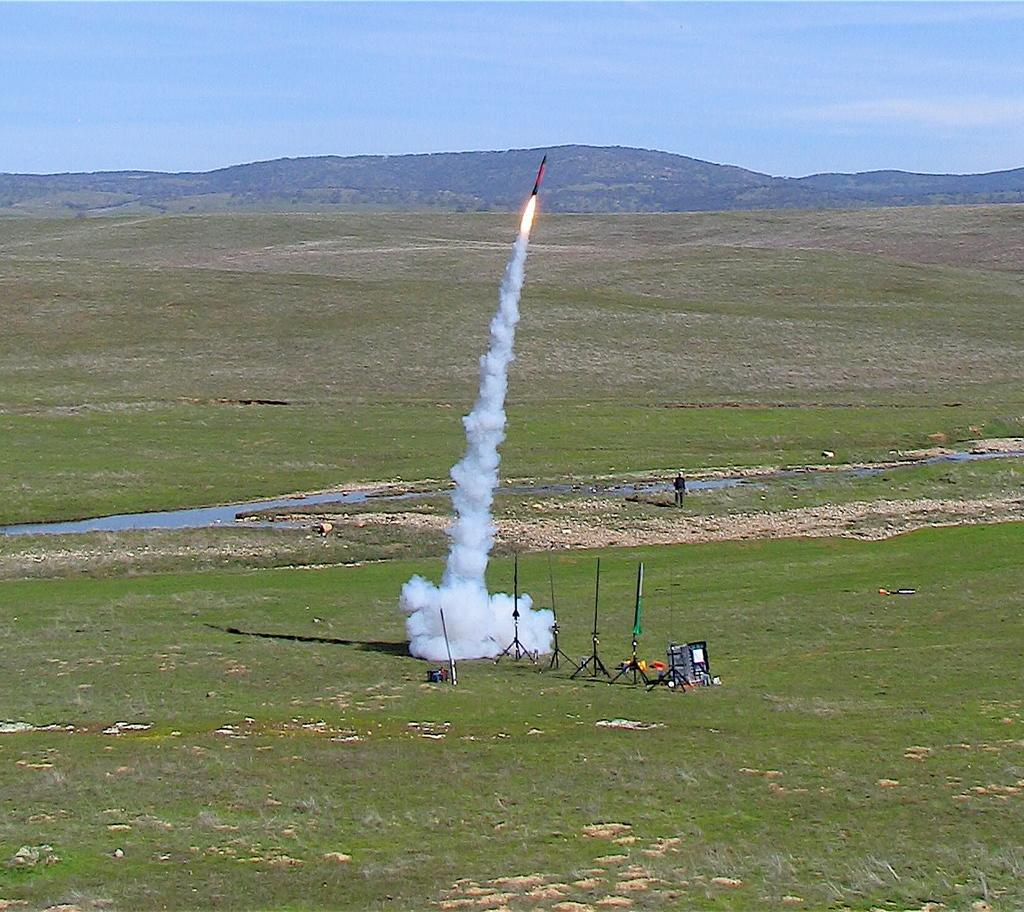Missile: (529, 153, 548, 199)
